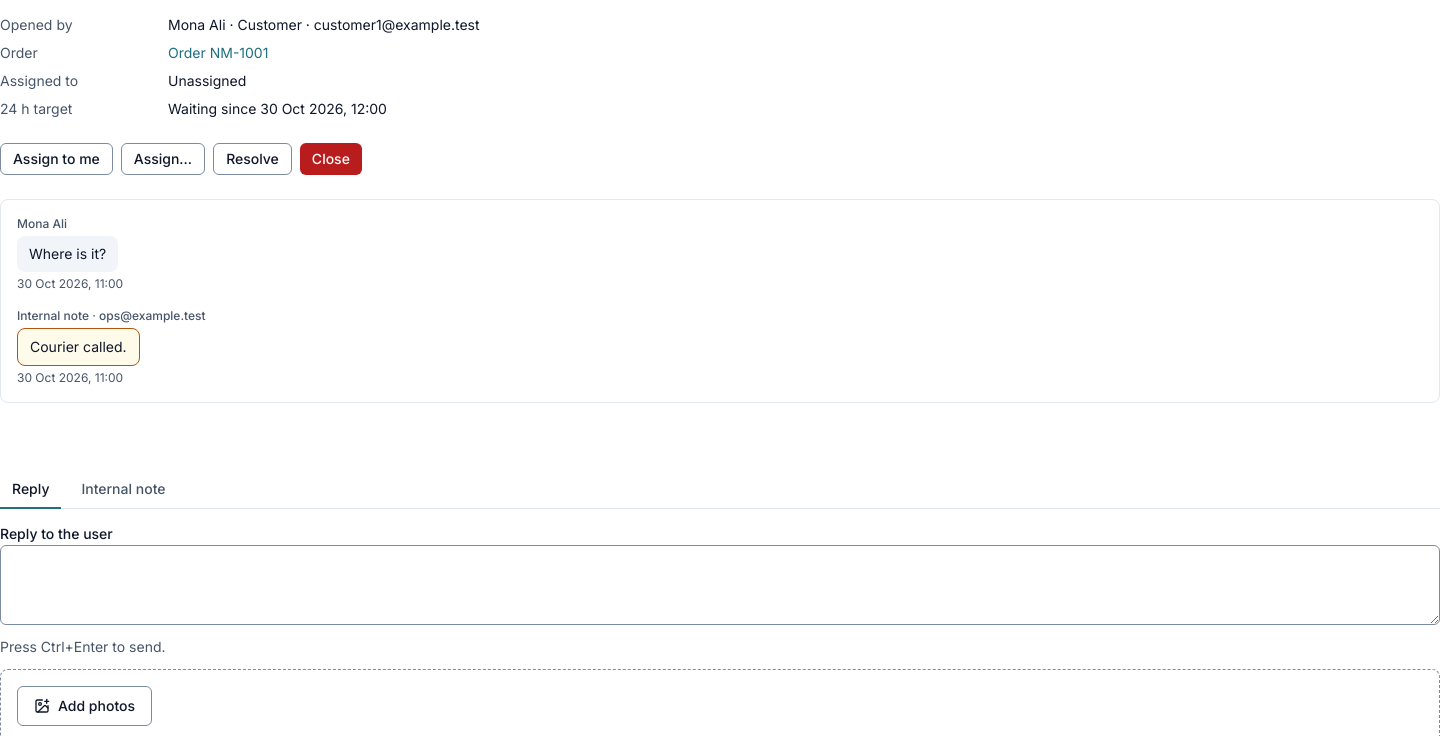
Test case: ticket (spec 03 AD-29, T-M5) › a failed reply, then the note tab and back: sending the same reply reuses the key (T-O1 F-1, F-3)
The image size is (1440, 736).
Type "On its way" into the text box labelled "Reply to the user". click: (720, 585)
box: left=0, top=545, right=1439, bottom=625
(page scrolled)
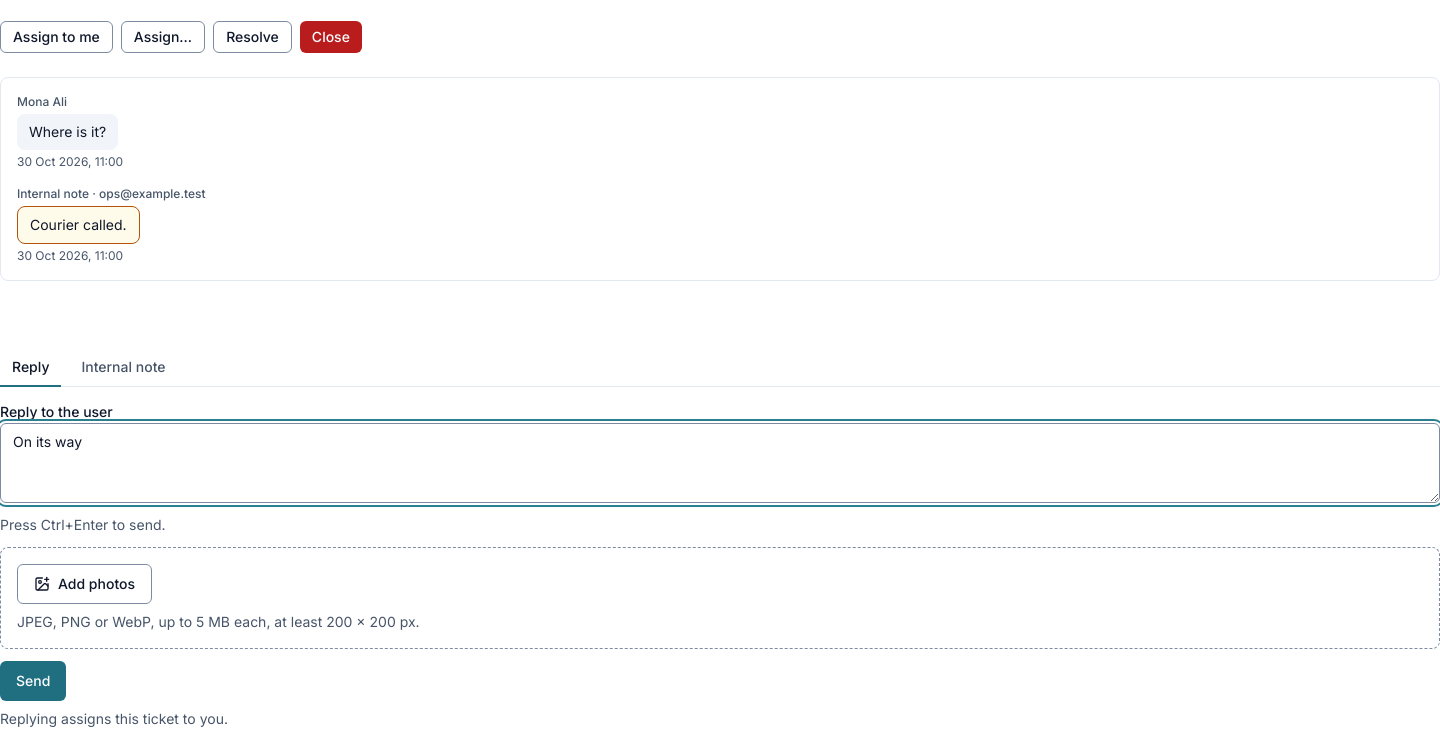
Click the button "Send". click: (33, 681)
box: left=0, top=661, right=66, bottom=701
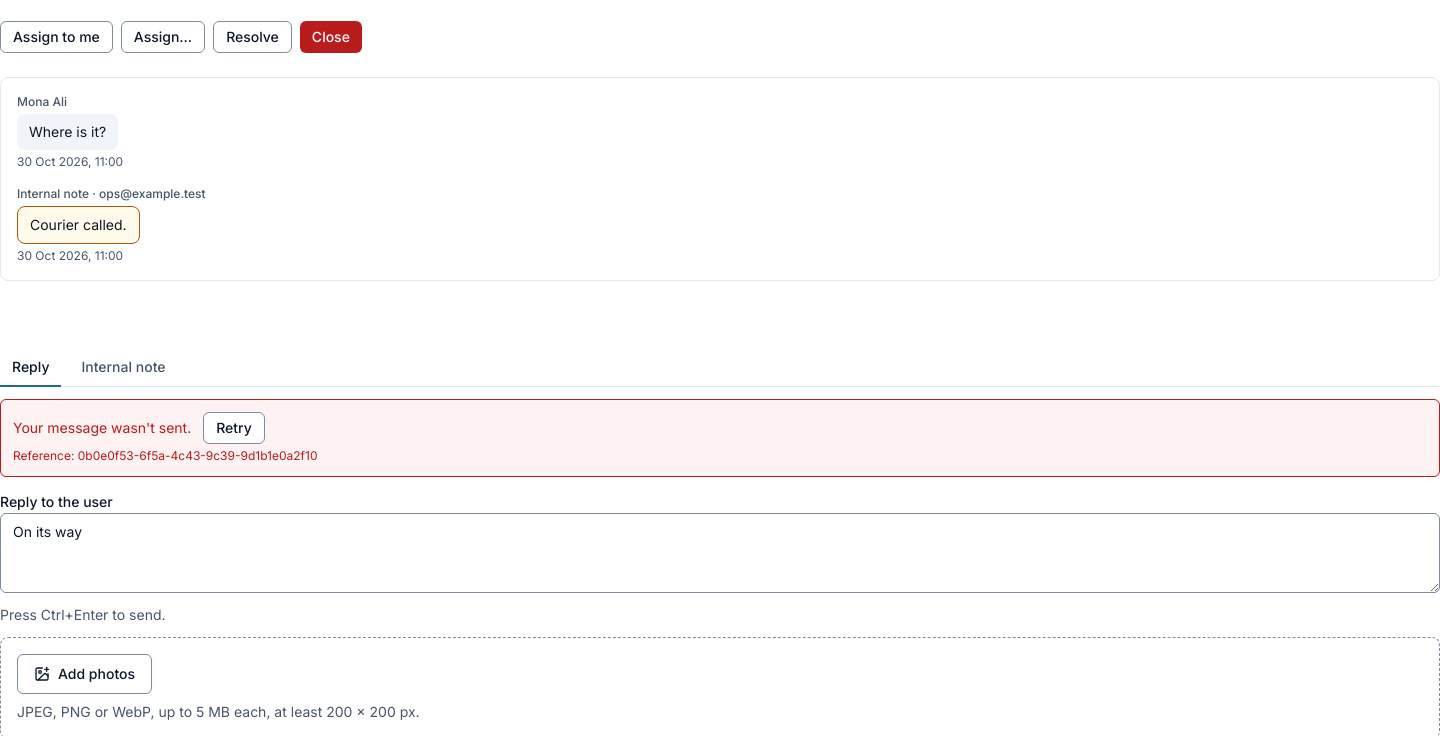
Expected: the text "Your message wasn't sent." is shown, left=13, top=419, right=191, bottom=436
Click the tab "Internal note". click: (123, 368)
box: left=69, top=349, right=177, bottom=387
(page scrolled)
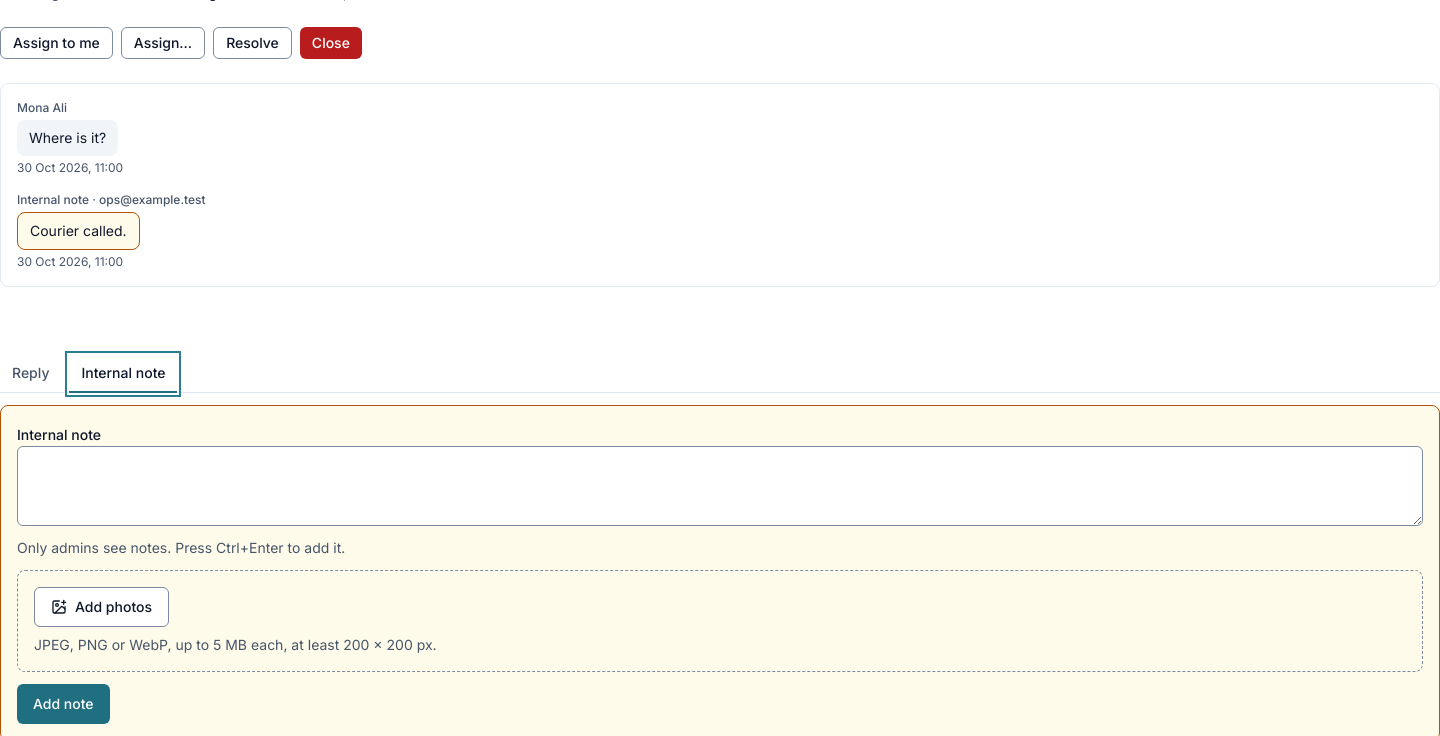
Click the tab "Reply". click: (31, 374)
box: left=0, top=355, right=61, bottom=393
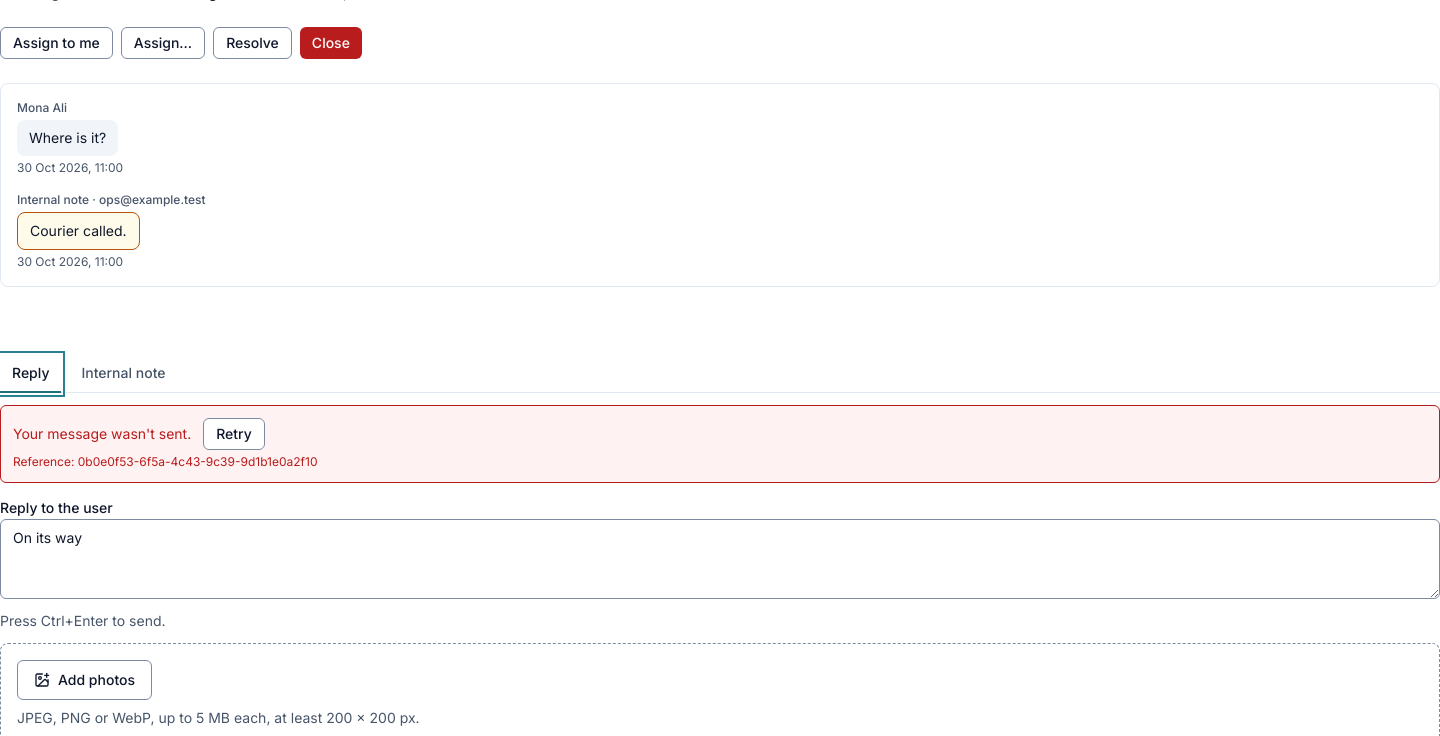
Click the button "Retry". click: (234, 434)
box: left=203, top=418, right=265, bottom=450
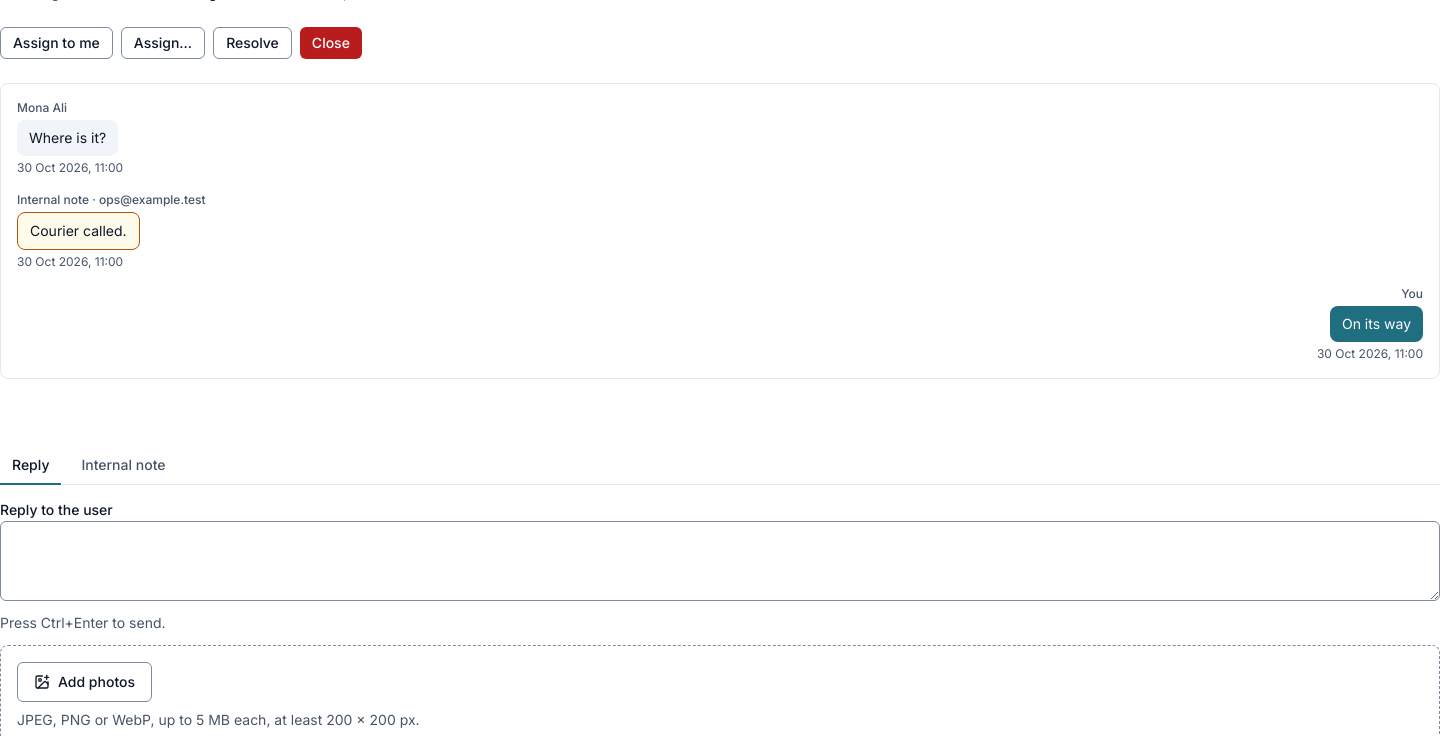
Expected: the text "On its way" is shown, left=1342, top=314, right=1411, bottom=334
